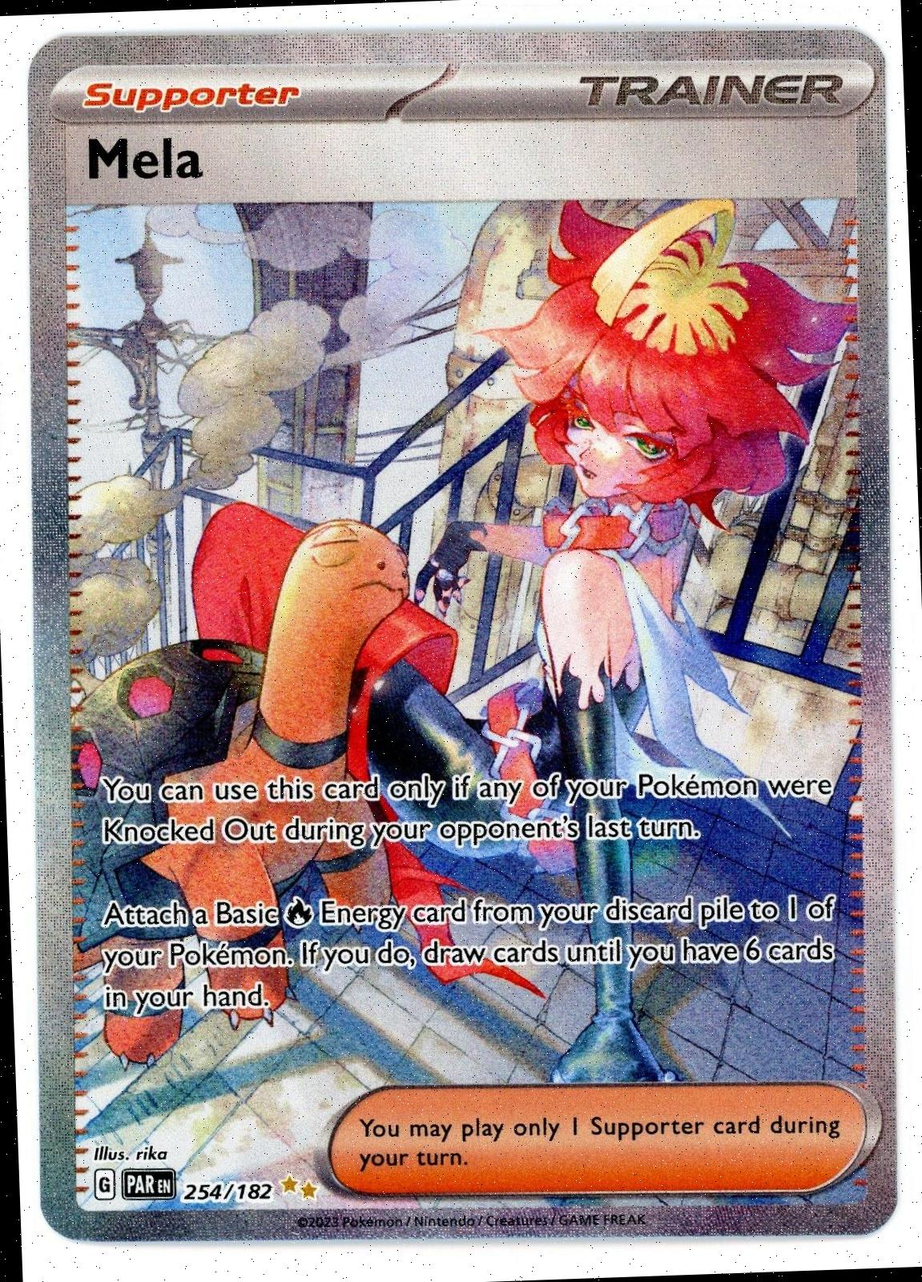card-2UtV: (27, 28, 897, 1242)
